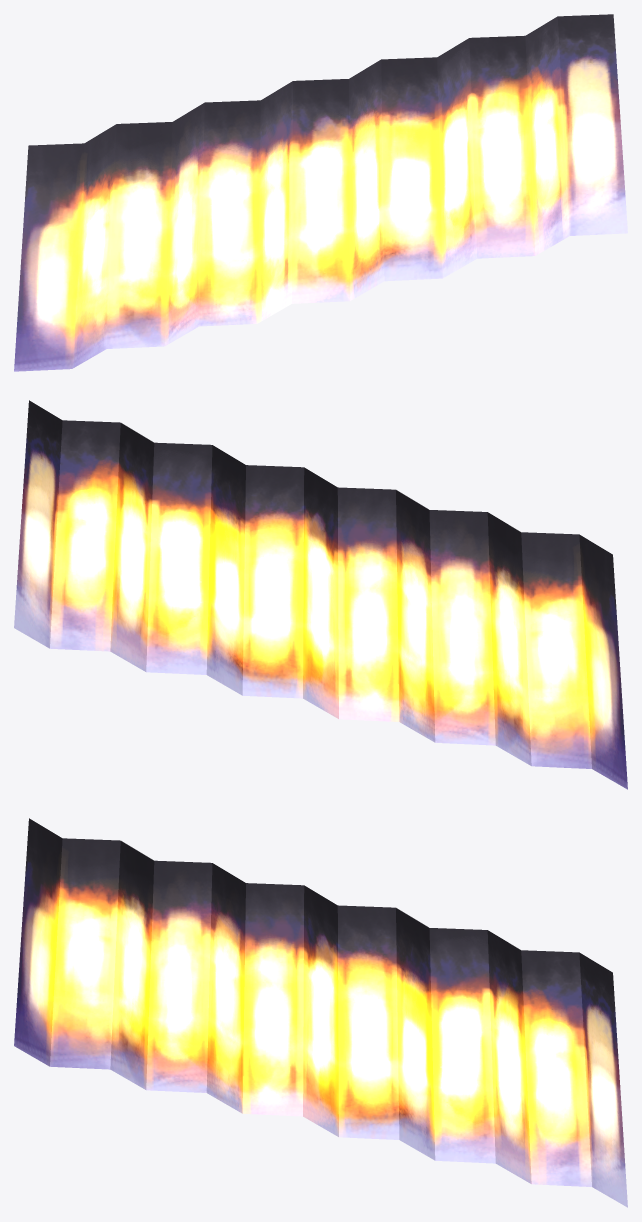
Rendered from Cortina.fbx.
The picture shows the model from 3 angles, top to bottom: view 1: azimuth 30°, elevation 25°; view 2: azimuth 150°, elevation 25°; view 3: azimuth 330°, elevation 25°; orthographic projection. The views are drawn at different scales.
Visible parts, largest first — view 1: Cortina; view 2: Cortina; view 3: Cortina.
Part boxes in pixels (<box>): Cortina: <box>14,14,627,371</box>; Cortina: <box>14,400,627,789</box>; Cortina: <box>14,818,627,1207</box>.
Bounding box in the file's own units: 484 × 171 × 16.43.
